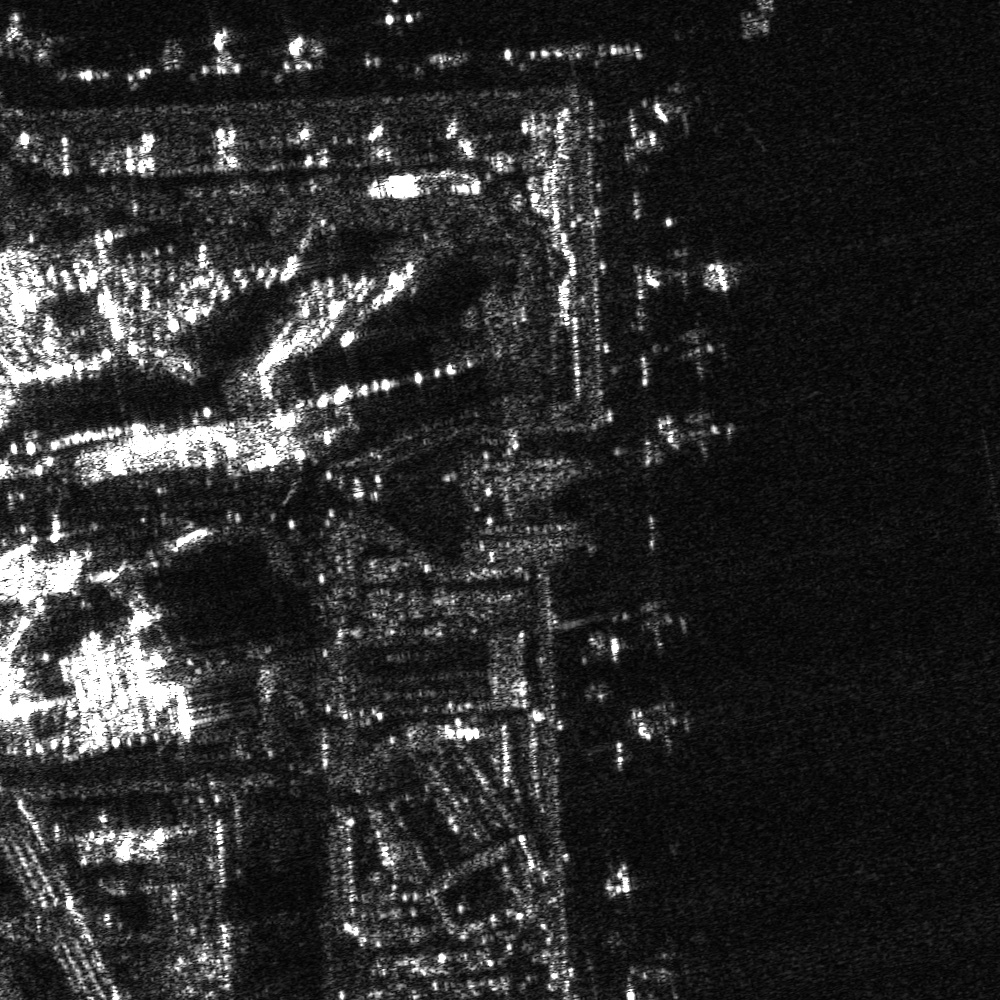A220: (641, 228, 747, 298), (647, 400, 747, 467), (646, 323, 745, 387), (602, 594, 698, 659), (622, 682, 700, 759)
Boeing787: (360, 1, 441, 36)
